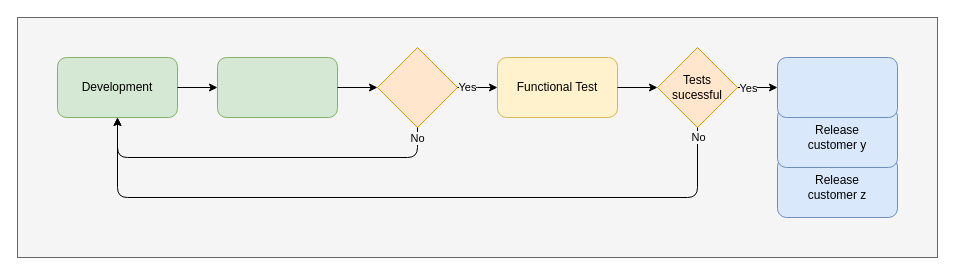
The diagram is 955 pixels wide and 275 high, and some of its shapes have lost their labels. The centre of each missing label's shape, as x and y in pixels:
Change approved: [417,87]
Pull Request: [277,87]
Release customer x: [837,87]
